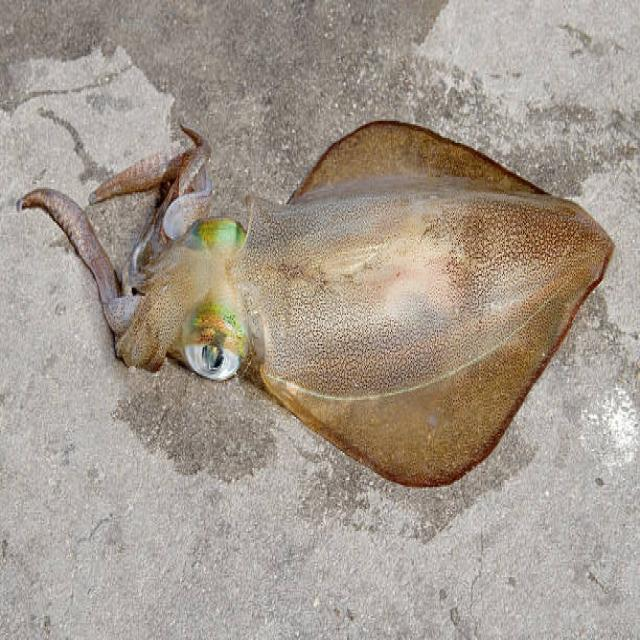SQUID: (21, 78, 640, 500)
